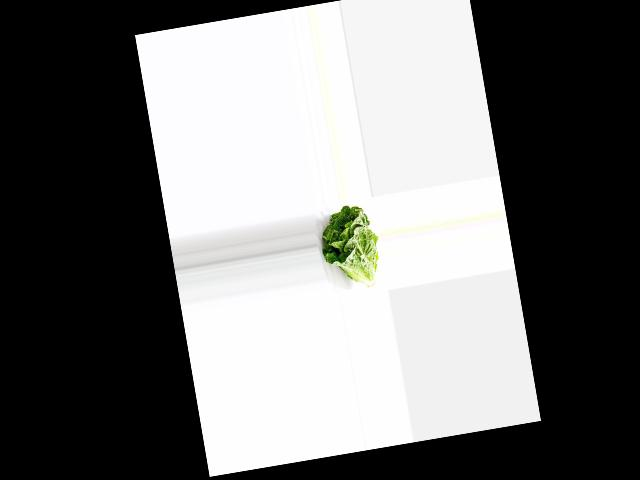lettuce: (314, 202, 386, 292)
